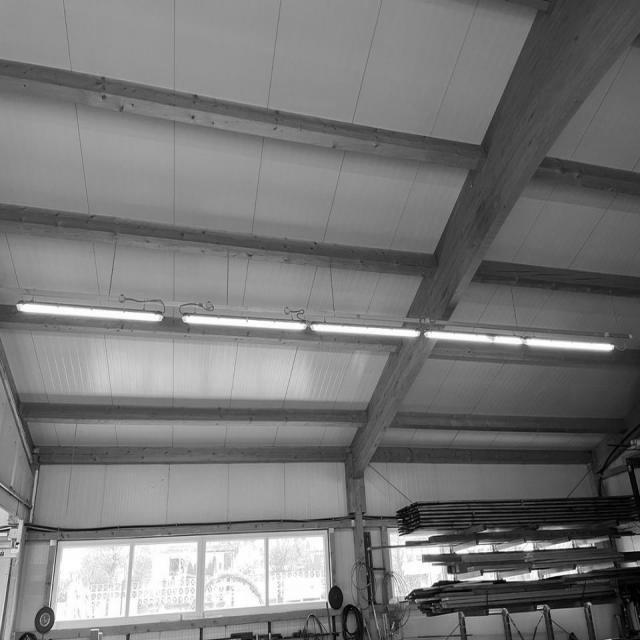light: (14, 295, 615, 355)
